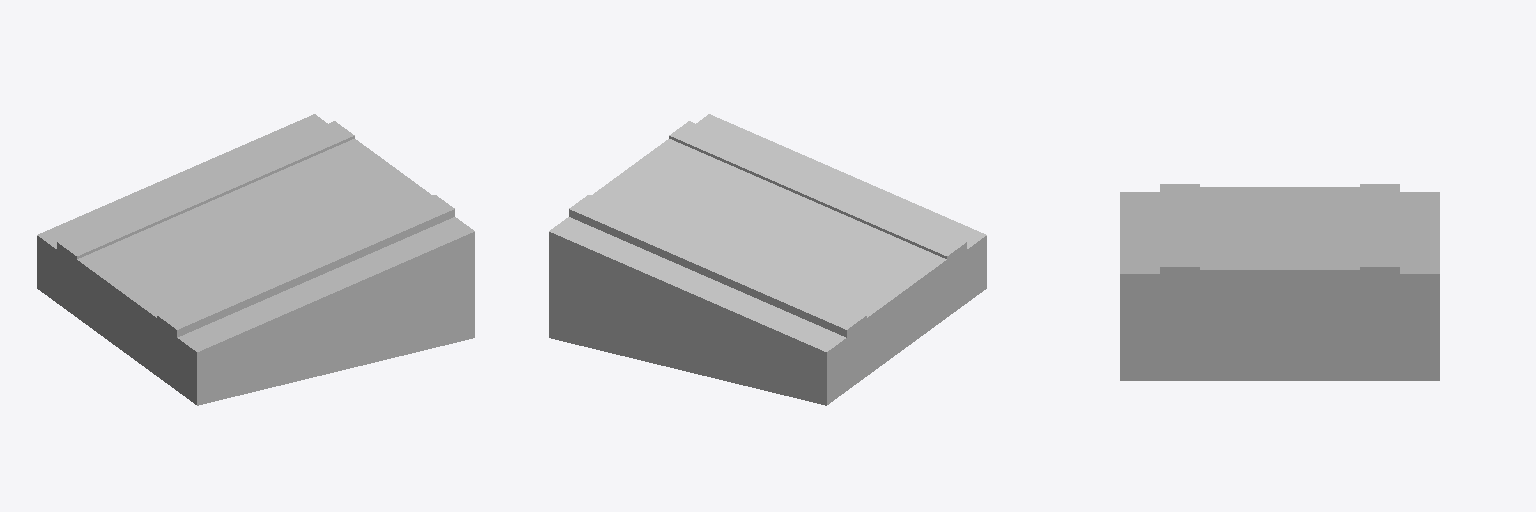
Rendered from tile106.obj.
3 renders of one model, left to right at view 1: azimuth 30°, elevation 25°; view 2: azimuth 150°, elevation 25°; view 3: azimuth 270°, elevation 25°, orthographic.
Parts seen in each view (by area): view 1: tile106; view 2: tile106; view 3: tile106.
Part boxes in pixels (x1,y1,x2,y2): tile106: (37, 114, 474, 405); tile106: (549, 114, 986, 405); tile106: (1120, 184, 1439, 380).
Size of the model in its own units: 1 by 0.3933 by 1.